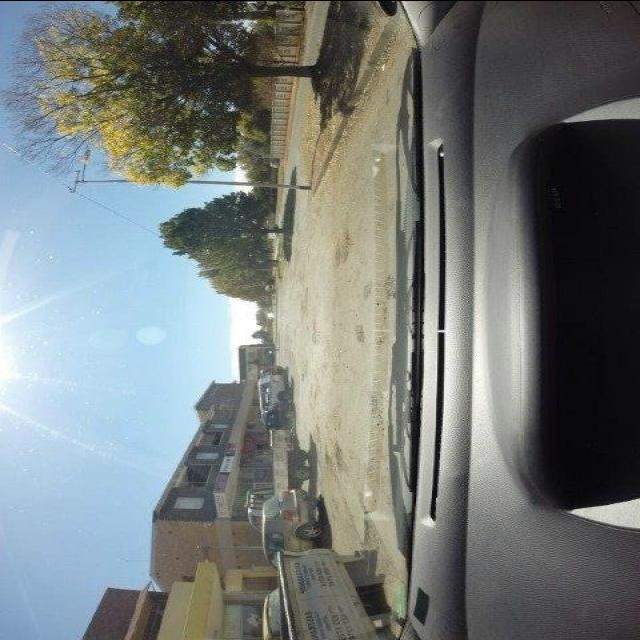lubang: (319, 432, 345, 474), (329, 226, 352, 265)
